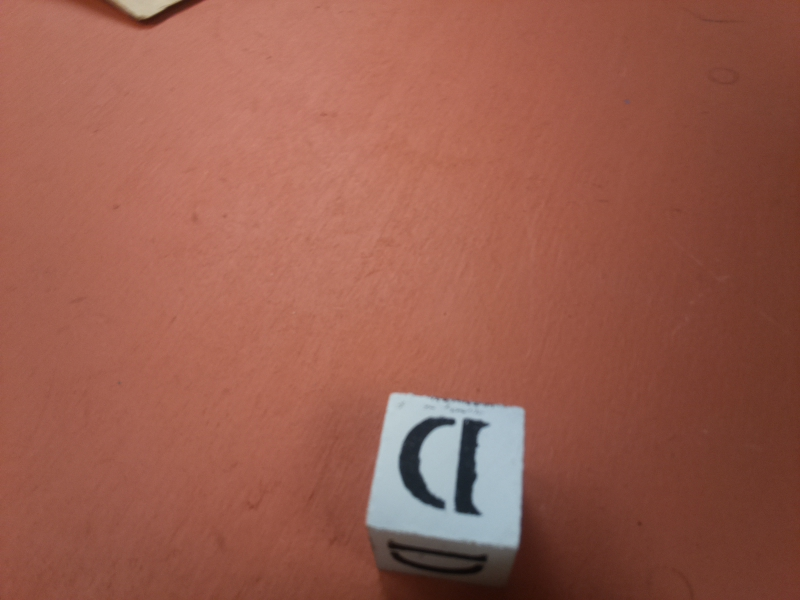blockD: (364, 391, 525, 586)
slope: (94, 1, 187, 30)
